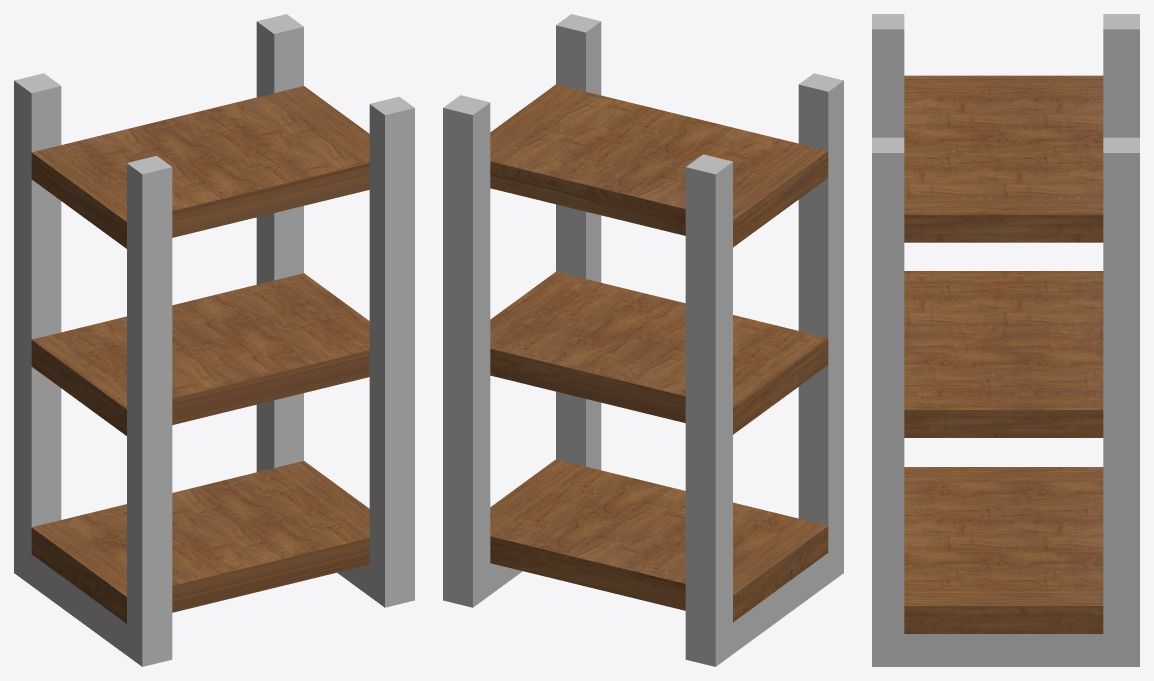
The model's file is Estante_3_MaC_MeE_P.fbx.
3 renders of one model, left to right at view 1: azimuth 30°, elevation 25°; view 2: azimuth 150°, elevation 25°; view 3: azimuth 270°, elevation 25°, orthographic. The views are drawn at different scales.
Visible parts, largest first — view 1: polySurface31; view 2: polySurface31; view 3: polySurface31.
Boxes of the visible parts, x1=… form: polySurface31: x1=14, y1=14, x2=414, y2=666; polySurface31: x1=443, y1=14, x2=843, y2=666; polySurface31: x1=872, y1=14, x2=1139, y2=666.
Size of the model in its own units: 1 by 1.73 by 0.8151.
